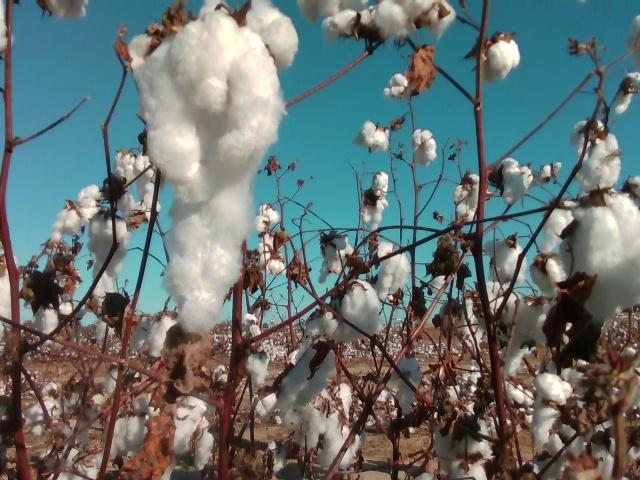cotton_ready: (134, 16, 286, 335), (558, 191, 640, 322), (109, 394, 214, 473), (542, 419, 640, 480), (297, 384, 359, 466), (501, 298, 562, 378), (275, 338, 337, 413), (319, 278, 382, 339), (245, 0, 299, 70), (572, 117, 620, 190), (372, 0, 456, 41), (533, 372, 571, 454), (433, 414, 494, 460), (53, 184, 102, 240), (88, 215, 129, 278), (129, 315, 183, 360), (542, 198, 581, 254), (488, 241, 528, 286), (326, 11, 384, 41), (375, 243, 409, 294), (482, 38, 521, 82), (318, 233, 353, 282), (35, 296, 74, 336), (87, 269, 118, 314), (298, 0, 364, 20), (0, 253, 18, 320), (497, 158, 529, 193), (133, 154, 163, 188), (113, 152, 139, 184)
